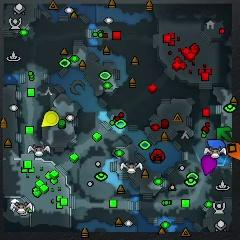p1: (207, 139, 226, 152)
p3: (201, 155, 217, 175)
p4: (42, 110, 59, 127)
p5: (227, 142, 240, 160)
x4: (216, 127, 232, 141)
